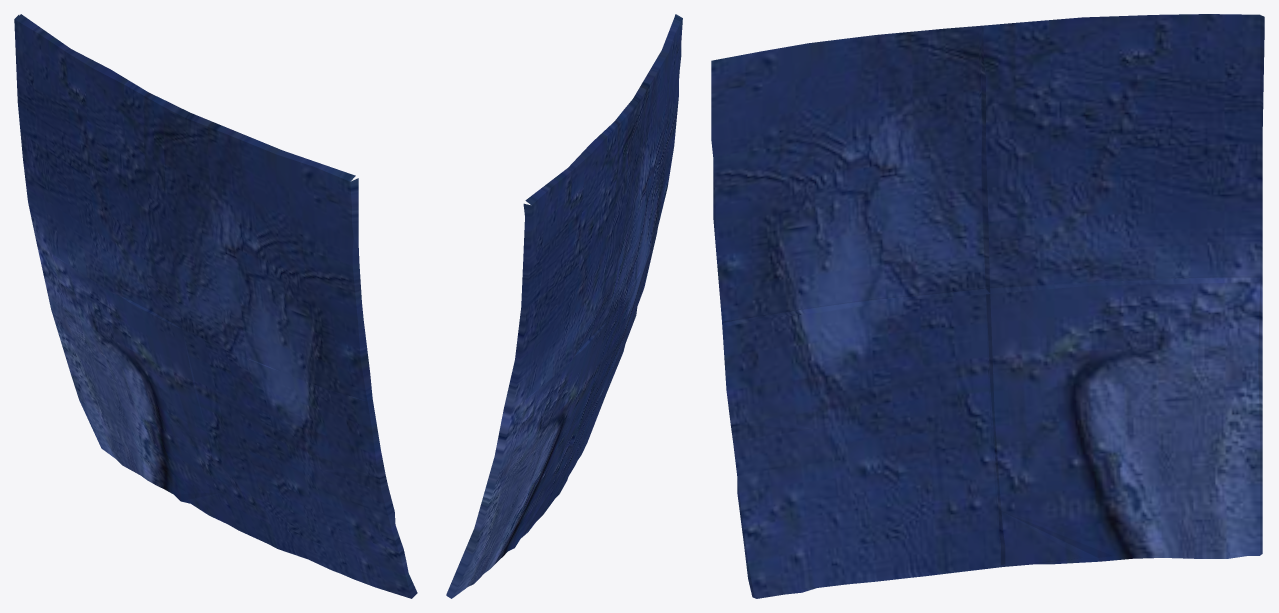
The model's file is Google3DTile.glb.
3 renders of one model, left to right at view 1: azimuth 30°, elevation 25°; view 2: azimuth 150°, elevation 25°; view 3: azimuth 270°, elevation 25°, orthographic. The views are drawn at different scales.
Size of the model in its own units: 973669 by 2458272 by 2467912.
Materials: 1 (1 with a texture image).
